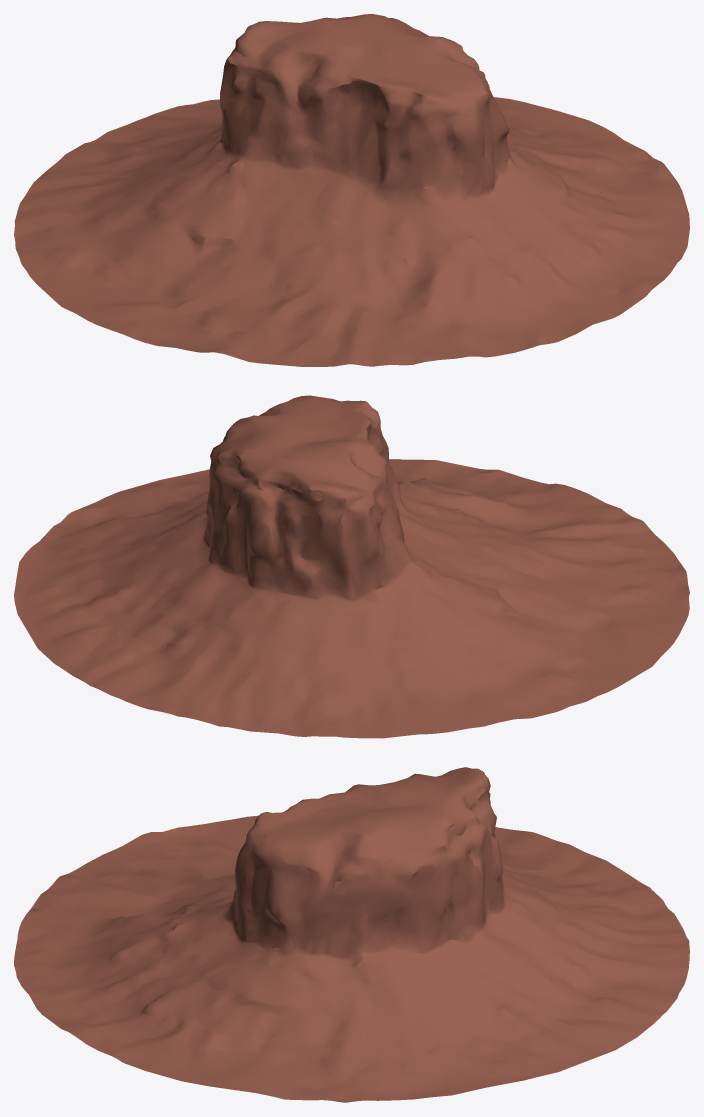
The model's file is wc_canyon02.gltf.
3 views of the same model, one above another, from view 1: azimuth 30°, elevation 25°; view 2: azimuth 150°, elevation 25°; view 3: azimuth 270°, elevation 25° (orthographic).
Parts seen in each view (by area): view 1: wc_canyon02; view 2: wc_canyon02; view 3: wc_canyon02.
Part boxes in pixels (x1,y1,x2,y2): wc_canyon02: (14,14,689,366); wc_canyon02: (14,395,689,738); wc_canyon02: (14,767,689,1102).
Size of the model in its own units: 89.91 by 24.77 by 87.74.
Materials: 1 (1 with a texture image).
